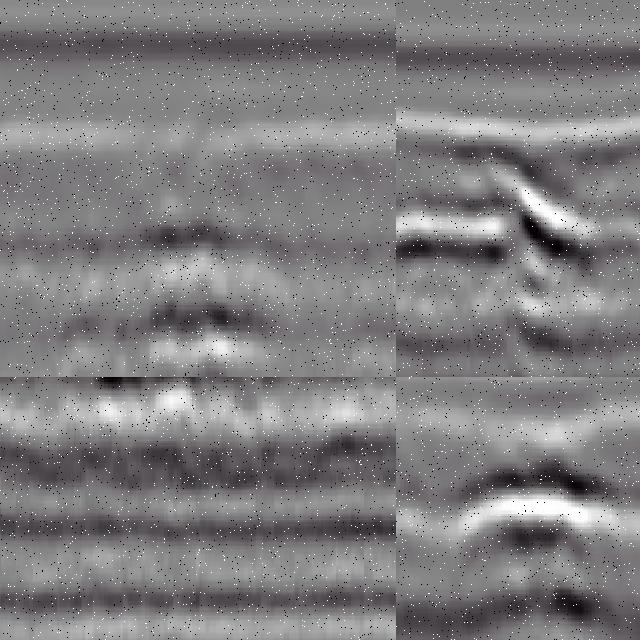crack: (397, 131, 640, 345)
loose: (397, 450, 631, 640), (70, 214, 294, 374), (79, 378, 251, 459)
